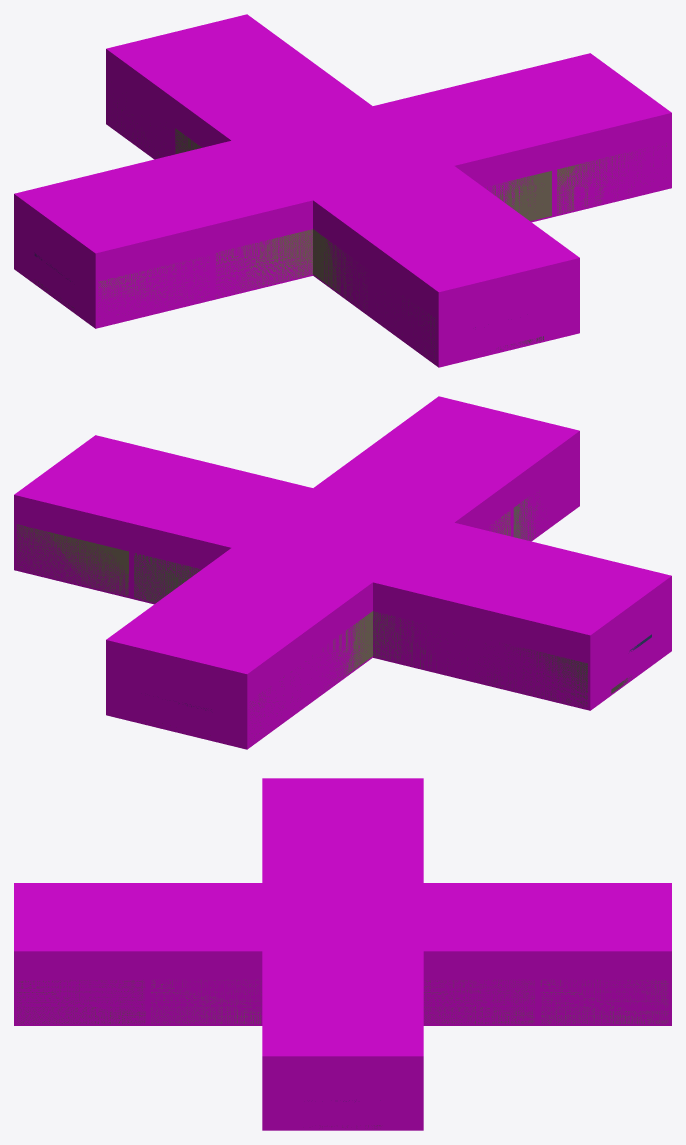
File: ENV_Channel_Junction_A.glb
3 renders of one model, top to bottom at view 1: azimuth 30°, elevation 25°; view 2: azimuth 150°, elevation 25°; view 3: azimuth 270°, elevation 25°, orthographic.
Parts seen in each view (by area): view 1: COL_Arm_0_-1, COL_Arm_-1_0, COL_Arm_1_0, COL_Arm_0_1, ENV_Channel_Junction_A_Mesh, COL_Core; view 2: COL_Arm_-1_0, COL_Arm_0_1, COL_Arm_1_0, COL_Arm_0_-1, ENV_Channel_Junction_A_Mesh, COL_Core; view 3: COL_Arm_0_-1, COL_Arm_0_1, COL_Arm_1_0, COL_Arm_-1_0, ENV_Channel_Junction_A_Mesh.
Part boxes in pixels (box(x1,y1,x2,y2)): COL_Arm_0_-1: box(272, 151, 579, 367); COL_Arm_-1_0: box(14, 124, 382, 328); COL_Arm_1_0: box(303, 53, 671, 222); COL_Arm_0_1: box(106, 14, 372, 170); ENV_Channel_Junction_A_Mesh: box(35, 102, 666, 361); COL_Core: box(313, 107, 452, 183); COL_Arm_-1_0: box(309, 505, 671, 710); COL_Arm_0_1: box(106, 534, 413, 749); COL_Arm_1_0: box(14, 435, 383, 604); COL_Arm_0_-1: box(310, 396, 579, 552); ENV_Channel_Junction_A_Mesh: box(16, 496, 631, 736); COL_Core: box(233, 489, 381, 560); COL_Arm_0_-1: box(14, 883, 283, 1025); COL_Arm_0_1: box(423, 883, 671, 1025); COL_Arm_1_0: box(262, 917, 423, 1130); COL_Arm_-1_0: box(262, 778, 423, 917); ENV_Channel_Junction_A_Mesh: box(17, 979, 668, 1127).
Bounding box in the file's own units: 4 × 0.5373 × 4.
